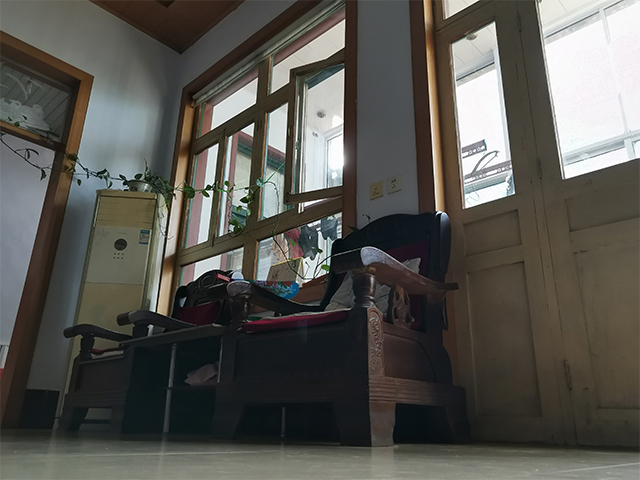stool: (214, 209, 472, 447), (61, 267, 235, 433)
table: (116, 321, 229, 436)
